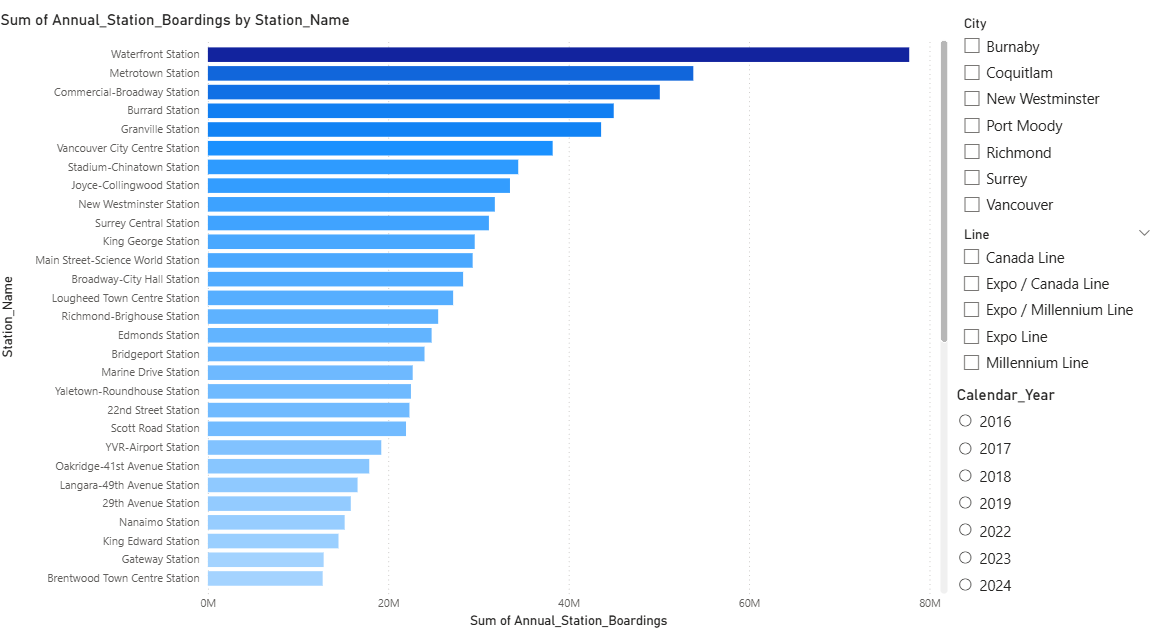

Layout of this report page (visuals, bound fields, positions):
{"tool":"powerbi","page":{"name":"Total Boardings by Station","canvas":[1280,720],"ordinal":2},"visuals":[{"type":"barChart","fields":{"Category":["Sheet1.Station_Name"],"Y":["Sum(Sheet1.Annual_Station_Boardings)"]},"box":[0,37.1,1050,682.9],"z":0},{"type":"slicer","fields":{"Values":["Sheet1.City"]},"box":[1050,37.1,230,231.4],"z":1000},{"type":"slicer","fields":{"Values":["Sheet1.Line"]},"box":[1050,268.6,230,180],"z":2000},{"type":"listSlicer","fields":{"Values":["Sheet1.Calendar_Year"]},"box":[1050,448.6,230,271.4],"z":3000}]}

Visuals, with their boxes on the page's 1280x720 design canvas (x1, y1, x2, y2). These are canvas units, not pixel positions in the 1157x630 screenshot, which may show the page scaled, cropped or inside an application window:
barChart - Sheet1.Station_Name x Sum(Sheet1.Annual_Station_Boardings): [0,37,1050,720]
slicer - Sheet1.City: [1050,37,1280,268]
slicer - Sheet1.Line: [1050,269,1280,449]
listSlicer - Sheet1.Calendar_Year: [1050,449,1280,720]
